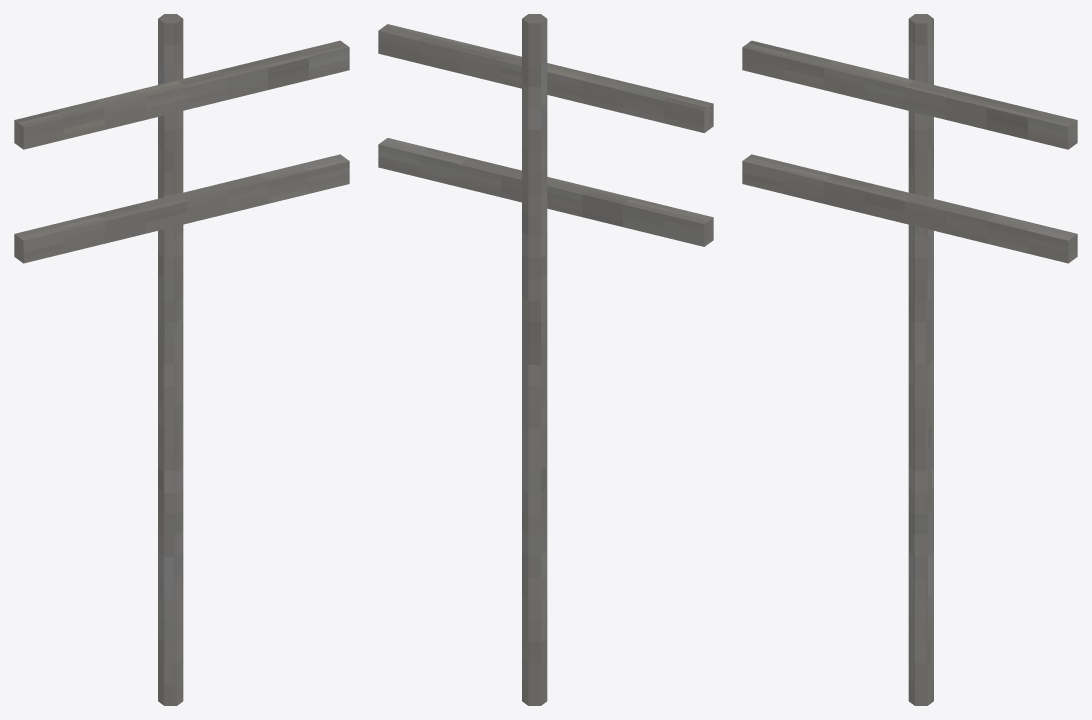
Rendered from pole1.glb.
The picture shows the model from 3 angles, left to right: view 1: azimuth 30°, elevation 25°; view 2: azimuth 150°, elevation 25°; view 3: azimuth 330°, elevation 25°; orthographic projection.
Parts seen in each view (by area): view 1: Cylinder; view 2: Cylinder; view 3: Cylinder.
Part boxes in pixels (x1,y1,x2,y2): Cylinder: (14, 14, 349, 705); Cylinder: (378, 14, 713, 705); Cylinder: (742, 14, 1077, 705).
Bounding box in the file's own units: 1.5 × 3 × 0.1775.
Materials: 1 (1 with a texture image).
